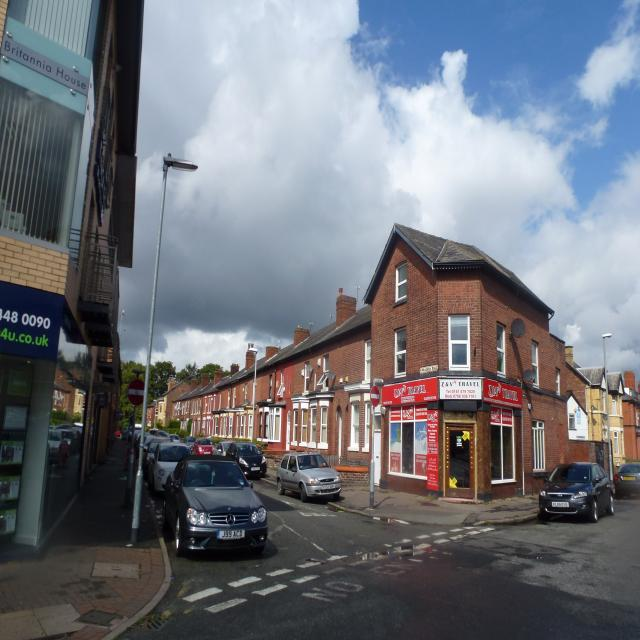car: (157, 455, 271, 566), (540, 457, 613, 523), (273, 446, 342, 502), (192, 433, 215, 459)
